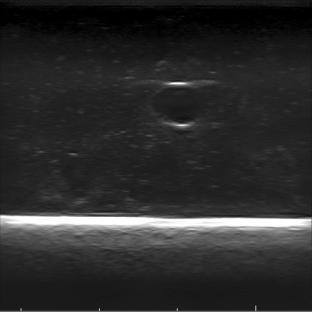vessel: (151, 81, 206, 130)
